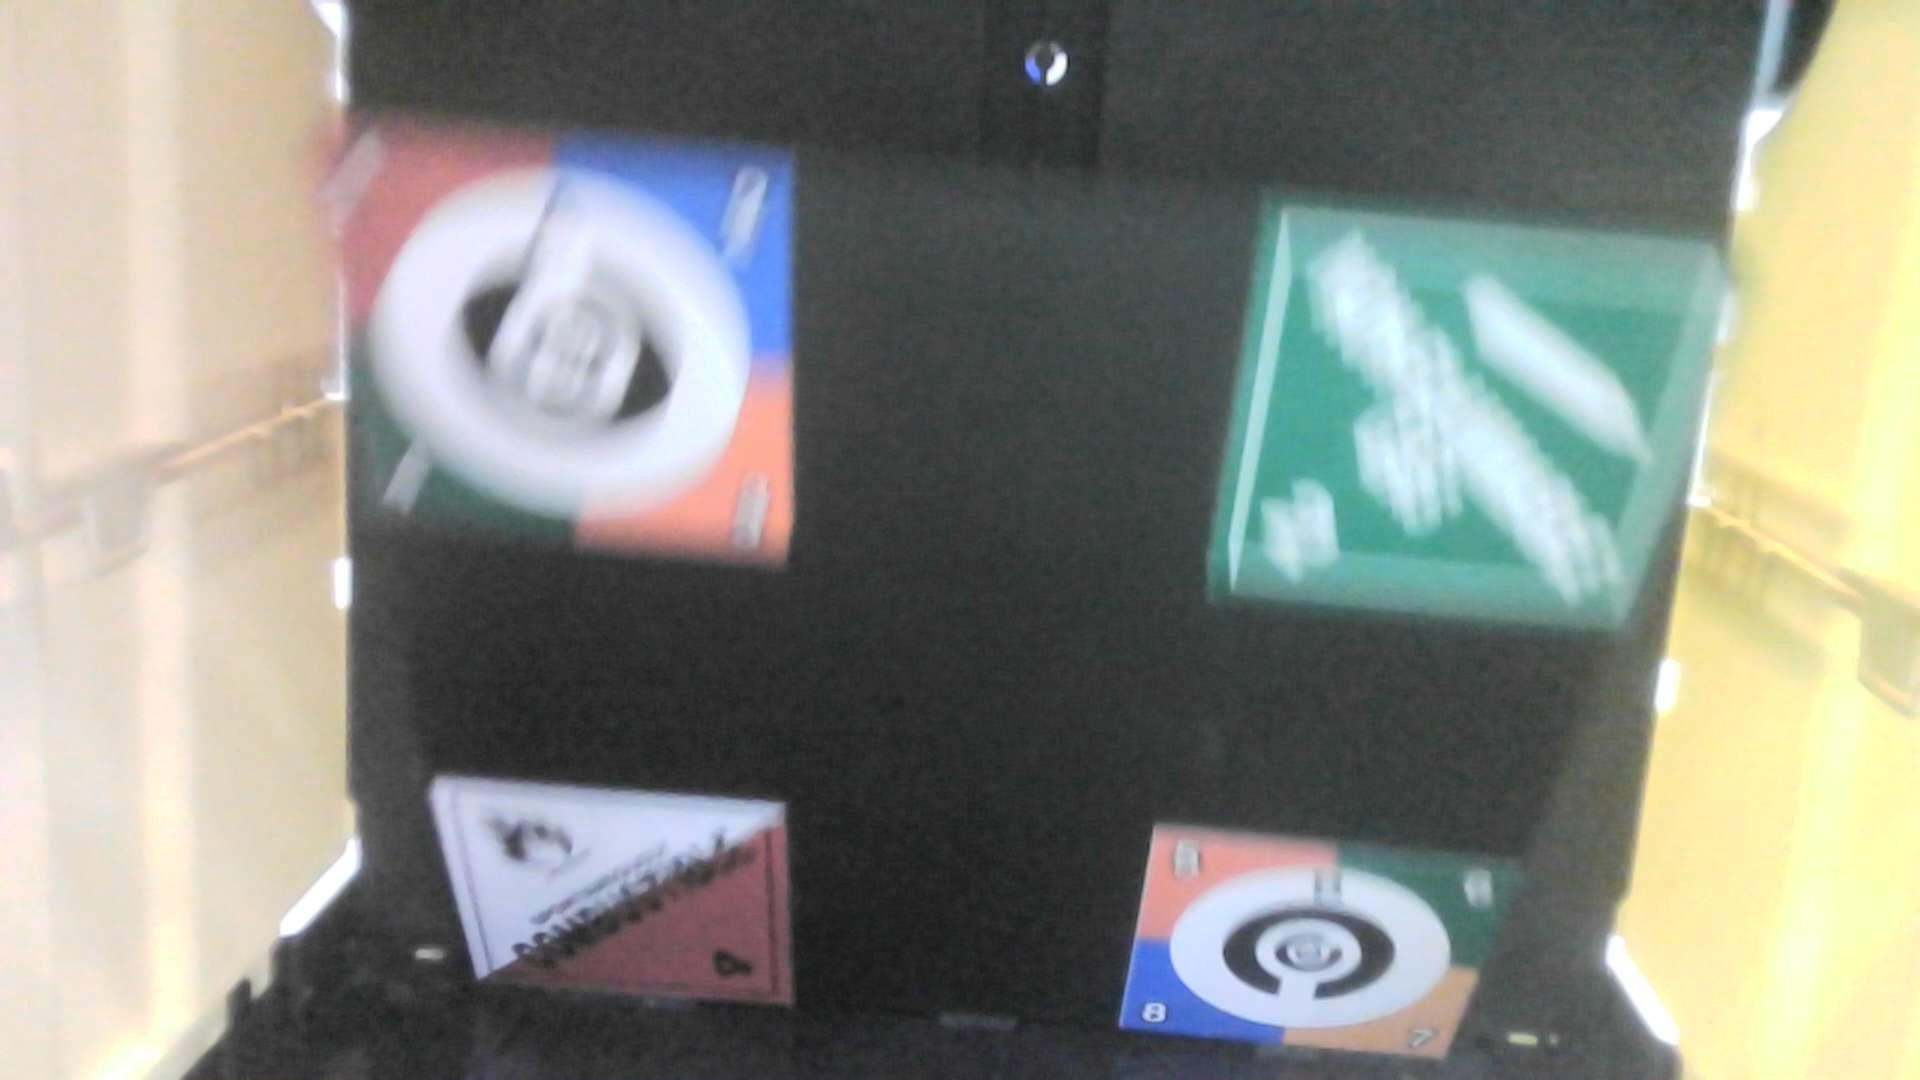non-flammable-gas: (1187, 194, 1738, 650)
spontaneously-combustible: (407, 770, 829, 1033)
